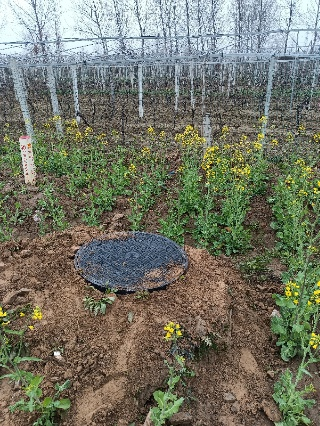good: (76, 232, 189, 291)
